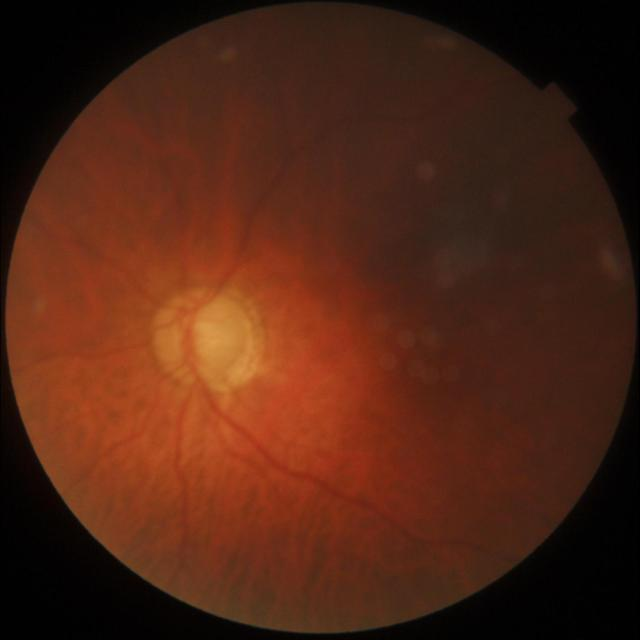OC: (193, 315, 238, 360)
OD: (154, 290, 254, 386)
